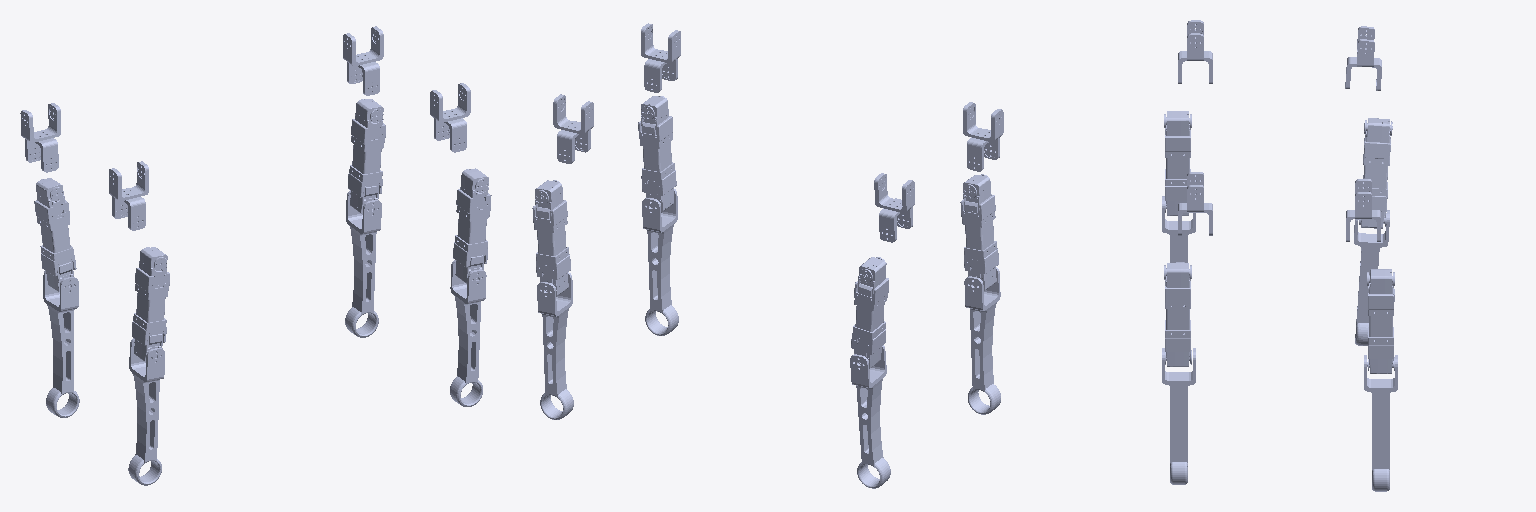
URDF robot description (cerbrus_urdf):
<?xml version="1.0" encoding="utf-8"?>
<!-- This URDF was automatically created by SolidWorks to URDF Exporter! Originally created by Stephen Brawner (brawner@gmail.com) 
     Commit Version: 1.6.0-4-g7f85cfe  Build Version: 1.6.7995.38578
     For more information, please see http://wiki.ros.org/sw_urdf_exporter -->
<robot
  name="cerbrus_urdf">
    <mujoco>
        <compiler 
        meshdir="/home/mandred/cerbrus_ws/src/cerbrus_description/meshes/" 
        balanceinertia="true" 
        discardvisual="false" />
  </mujoco>
  <link
    name="base_link">
    <inertial>
      <origin
        xyz="0.2637 0.13624 -0.0045945"
        rpy="0 0 0" />
      <mass
        value="1.2203" />
      <inertia
        ixx="0.0021324"
        ixy="0"
        ixz="0"
        iyy="0.0090463"
        iyz="0"
        izz="0.01083" />
    </inertial>
    <visual>
      <origin
        xyz="0 0 0"
        rpy="0 0 0" />
      <geometry>
        <mesh
          filename="base_link.STL" />
      </geometry>
      <material
        name="">
        <color
          rgba="0.79216 0.81961 0.93333 1" />
      </material>
    </visual>
    <collision>
      <origin
        xyz="0 0 0"
        rpy="0 0 0" />
      <geometry>
        <mesh
          filename="base_link.STL" />
      </geometry>
    </collision>
  </link>

  <link
    name="front_left_b_link">
    <inertial>
      <origin
        xyz="0.023501 -0.00012609 -0.029"
        rpy="0 0 0" />
      <mass
        value="0.025843" />
      <inertia
        ixx="9.0149E-06"
        ixy="0"
        ixz="0"
        iyy="9.0149E-06"
        iyz="0"
        izz="1.0208E-05" />
    </inertial>
    <visual>
      <origin
        xyz="0 0 0"
        rpy="0 0 0" />
      <geometry>
        <mesh
          filename="front_left_b_link.STL" />
      </geometry>
      <material
        name="">
        <color
          rgba="0.79216 0.81961 0.93333 1" />
      </material>
    </visual>
    <collision>
      <origin
        xyz="0 0 0"
        rpy="0 0 0" />
      <geometry>
        <mesh
          filename="front_left_b_link.STL" />
      </geometry>
    </collision>
  </link>
  <joint
    name="front_left_b_joint"
    type="revolute">
    <origin
      xyz="0.48015 0.27243 -0.010182"
      rpy="0 0 0" />
    <parent
      link="base_link" />
    <child
      link="front_left_b_link" />
    <axis
      xyz="1 0 0" />
    <limit
      lower="-1.57"
      upper="1.57"
      effort="100"
      velocity="4" />
  </joint>
  <link
    name="front_left_ul_link">
    <inertial>
      <origin
        xyz="0.00012183 -0.018126 -0.065002"
        rpy="0 0 0" />
      <mass
        value="0.1273" />
      <inertia
        ixx="2.7354E-05"
        ixy="0"
        ixz="0"
        iyy="2.9279E-05"
        iyz="0"
        izz="1.5317E-05" />
    </inertial>
    <visual>
      <origin
        xyz="0 0 0"
        rpy="0 0 0" />
      <geometry>
        <mesh
          filename="front_left_ul_link.STL" />
      </geometry>
      <material
        name="">
        <color
          rgba="0.79216 0.81961 0.93333 1" />
      </material>
    </visual>
    <collision>
      <origin
        xyz="0 0 0"
        rpy="0 0 0" />
      <geometry>
        <mesh
          filename="front_left_ul_link.STL" />
      </geometry>
    </collision>
  </link>
  <joint
    name="front_left_ul_joint"
    type="revolute">
    <origin
      xyz="0.023375 0.018375 -0.058"
      rpy="0 0.065641 0" />
    <parent
      link="front_left_b_link" />
    <child
      link="front_left_ul_link" />
    <axis
      xyz="0 1 0" />
    <limit
      lower="-1.57"
      upper="1.57"
      effort="100"
      velocity="4" />
  </joint>
  <link
    name="front_left_ll_link">
    <inertial>
      <origin
        xyz="0.0022913 -0.023105 -0.088631"
        rpy="0 0 0" />
      <mass
        value="0.064388" />
      <inertia
        ixx="0.00020194"
        ixy="0"
        ixz="0"
        iyy="0.00019957"
        iyz="0"
        izz="1.1542E-05" />
    </inertial>
    <visual>
      <origin
        xyz="0 0 0"
        rpy="0 0 0" />
      <geometry>
        <mesh
          filename="front_left_ll_link.STL" />
      </geometry>
      <material
        name="">
        <color
          rgba="0.79216 0.81961 0.93333 1" />
      </material>
    </visual>
    <collision>
      <origin
        xyz="0 0 0"
        rpy="0 0 0" />
      <geometry>
        <mesh
          filename="front_left_ll_link.STL" />
      </geometry>
    </collision>
  </link>
  <joint
    name="front_left_ll_joint"
    type="revolute">
    <origin
      xyz="0 0.004658 -0.13"
      rpy="0 -0.028284 0" />
    <parent
      link="front_left_ul_link" />
    <child
      link="front_left_ll_link" />
    <axis
      xyz="0 1 0" />
    <limit
      lower="-1.57"
      upper="1.57"
      effort="100"
      velocity="4" />
  </joint>
  <link
    name="front_right_b_link">
    <inertial>
      <origin
        xyz="0.023501 -0.00012609 -0.029"
        rpy="0 0 0" />
      <mass
        value="0.025843" />
      <inertia
        ixx="9.0149E-06"
        ixy="0"
        ixz="0"
        iyy="9.0149E-06"
        iyz="0"
        izz="1.0208E-05" />
    </inertial>
    <visual>
      <origin
        xyz="0 0 0"
        rpy="0 0 0" />
      <geometry>
        <mesh
          filename="front_right_b_link.STL" />
      </geometry>
      <material
        name="">
        <color
          rgba="0.79216 0.81961 0.93333 1" />
      </material>
    </visual>
    <collision>
      <origin
        xyz="0 0 0"
        rpy="0 0 0" />
      <geometry>
        <mesh
          filename="front_right_b_link.STL" />
      </geometry>
    </collision>
  </link>
  <joint
    name="front_right_b_joint"
    type="revolute">
    <origin
      xyz="0.48015 0 0"
      rpy="0 0 0" />
    <parent
      link="base_link" />
    <child
      link="front_right_b_link" />
    <axis
      xyz="1 0 0" />
    <limit
      lower="-1.57"
      upper="1.57"
      effort="100"
      velocity="4" />
  </joint>
  <link
    name="front_right_ul_link">
    <inertial>
      <origin
        xyz="0.00012183 0.019124 -0.065002"
        rpy="0 0 0" />
      <mass
        value="0.1273" />
      <inertia
        ixx="2.7354E-05"
        ixy="0"
        ixz="0"
        iyy="2.9279E-05"
        iyz="0"
        izz="1.5317E-05" />
    </inertial>
    <visual>
      <origin
        xyz="0 0 0"
        rpy="0 0 0" />
      <geometry>
        <mesh
          filename="front_right_ul_link.STL" />
      </geometry>
      <material
        name="">
        <color
          rgba="0.79216 0.81961 0.93333 1" />
      </material>
    </visual>
    <collision>
      <origin
        xyz="0 0 0"
        rpy="0 0 0" />
      <geometry>
        <mesh
          filename="front_right_ul_link.STL" />
      </geometry>
    </collision>
  </link>
  <joint
    name="front_right_ul_joint"
    type="revolute">
    <origin
      xyz="0.023375 -0.018875 -0.058"
      rpy="0 0.065641 0" />
    <parent
      link="front_right_b_link" />
    <child
      link="front_right_ul_link" />
    <axis
      xyz="0 1 0" />
    <limit
      lower="-1.57"
      upper="1.57"
      effort="100"
      velocity="4" />
  </joint>
  <link
    name="front_right_ll_link">
    <inertial>
      <origin
        xyz="0.0022913 0.023145 -0.088631"
        rpy="0 0 0" />
      <mass
        value="0.064388" />
      <inertia
        ixx="0.00020194"
        ixy="0"
        ixz="0"
        iyy="0.00019957"
        iyz="0"
        izz="1.1542E-05" />
    </inertial>
    <visual>
      <origin
        xyz="0 0 0"
        rpy="0 0 0" />
      <geometry>
        <mesh
          filename="front_right_ll_link.STL" />
      </geometry>
      <material
        name="">
        <color
          rgba="0.79216 0.81961 0.93333 1" />
      </material>
    </visual>
    <collision>
      <origin
        xyz="0 0 0"
        rpy="0 0 0" />
      <geometry>
        <mesh
          filename="front_right_ll_link.STL" />
      </geometry>
    </collision>
  </link>
  <joint
    name="front_right_ll_joint"
    type="revolute">
    <origin
      xyz="0 -0.002742 -0.13"
      rpy="0 -0.028284 0" />
    <parent
      link="front_right_ul_link" />
    <child
      link="front_right_ll_link" />
    <axis
      xyz="0 1 0" />
    <limit
      lower="-1.57"
      upper="1.57"
      effort="100"
      velocity="4" />
  </joint>
  <link
    name="back_left_b_link">
    <inertial>
      <origin
        xyz="0.023501 -0.00012609 -0.029"
        rpy="0 0 0" />
      <mass
        value="0.025843" />
      <inertia
        ixx="9.0149E-06"
        ixy="0"
        ixz="0"
        iyy="9.0149E-06"
        iyz="0"
        izz="1.0208E-05" />
    </inertial>
    <visual>
      <origin
        xyz="0 0 0"
        rpy="0 0 0" />
      <geometry>
        <mesh
          filename="back_left_b_link.STL" />
      </geometry>
      <material
        name="">
        <color
          rgba="0.79216 0.81961 0.93333 1" />
      </material>
    </visual>
    <collision>
      <origin
        xyz="0 0 0"
        rpy="0 0 0" />
      <geometry>
        <mesh
          filename="back_left_b_link.STL" />
      </geometry>
    </collision>
  </link>
  <joint
    name="back_left_b_joint"
    type="revolute">
    <origin
      xyz="0 0.27243 -0.010182"
      rpy="-0.060911 0 0" />
    <parent
      link="base_link" />
    <child
      link="back_left_b_link" />
    <axis
      xyz="1 0 0" />
    <limit
      lower="-1.57"
      upper="1.57"
      effort="100"
      velocity="4" />
  </joint>
  <link
    name="back_left_ul_link">
    <inertial>
      <origin
        xyz="0.00012183 -0.018126 -0.065002"
        rpy="0 0 0" />
      <mass
        value="0.1273" />
      <inertia
        ixx="2.7354E-05"
        ixy="0"
        ixz="0"
        iyy="2.9279E-05"
        iyz="0"
        izz="1.5317E-05" />
    </inertial>
    <visual>
      <origin
        xyz="0 0 0"
        rpy="0 0 0" />
      <geometry>
        <mesh
          filename="back_left_ul_link.STL" />
      </geometry>
      <material
        name="">
        <color
          rgba="0.79216 0.81961 0.93333 1" />
      </material>
    </visual>
    <collision>
      <origin
        xyz="0 0 0"
        rpy="0 0 0" />
      <geometry>
        <mesh
          filename="back_left_ul_link.STL" />
      </geometry>
    </collision>
  </link>
  <joint
    name="back_left_ul_joint"
    type="revolute">
    <origin
      xyz="0.023375 0.018375 -0.058"
      rpy="0 -0.092957 0" />
    <parent
      link="back_left_b_link" />
    <child
      link="back_left_ul_link" />
    <axis
      xyz="0 1 0" />
    <limit
      lower="-1.57"
      upper="1.57"
      effort="100"
      velocity="4" />
  </joint>
  <link
    name="back_left_ll_link">
    <inertial>
      <origin
        xyz="0.0022913 -0.023105 -0.088631"
        rpy="0 0 0" />
      <mass
        value="0.064388" />
      <inertia
        ixx="0.00020194"
        ixy="0"
        ixz="0"
        iyy="0.00019957"
        iyz="0"
        izz="1.1542E-05" />
    </inertial>
    <visual>
      <origin
        xyz="0 0 0"
        rpy="0 0 0" />
      <geometry>
        <mesh
          filename="back_left_ll_link.STL" />
      </geometry>
      <material
        name="">
        <color
          rgba="0.79216 0.81961 0.93333 1" />
      </material>
    </visual>
    <collision>
      <origin
        xyz="0 0 0"
        rpy="0 0 0" />
      <geometry>
        <mesh
          filename="back_left_ll_link.STL" />
      </geometry>
    </collision>
  </link>
  <joint
    name="back_left_ll_joint"
    type="revolute">
    <origin
      xyz="0 0.004658 -0.13"
      rpy="0 0.13031 0" />
    <parent
      link="back_left_ul_link" />
    <child
      link="back_left_ll_link" />
    <axis
      xyz="0 1 0" />
    <limit
      lower="-1.57"
      upper="1.57"
      effort="100"
      velocity="4" />
  </joint>
  <link
    name="back_right_b_link">
    <inertial>
      <origin
        xyz="0.023501 -0.00012609 -0.029"
        rpy="0 0 0" />
      <mass
        value="0.025843" />
      <inertia
        ixx="9.0149E-06"
        ixy="0"
        ixz="0"
        iyy="9.0149E-06"
        iyz="0"
        izz="1.0208E-05" />
    </inertial>
    <visual>
      <origin
        xyz="0 0 0"
        rpy="0 0 0" />
      <geometry>
        <mesh
          filename="back_right_b_link.STL" />
      </geometry>
      <material
        name="">
        <color
          rgba="0.79216 0.81961 0.93333 1" />
      </material>
    </visual>
    <collision>
      <origin
        xyz="0 0 0"
        rpy="0 0 0" />
      <geometry>
        <mesh
          filename="back_right_b_link.STL" />
      </geometry>
    </collision>
  </link>
  <joint
    name="back_right_b_joint"
    type="revolute">
    <origin
      xyz="0 0 0"
      rpy="0 0 0" />
    <parent
      link="base_link" />
    <child
      link="back_right_b_link" />
    <axis
      xyz="1 0 0" />
    <limit
      lower="-1.57"
      upper="1.57"
      effort="100"
      velocity="4" />
  </joint>
  <link
    name="back_right_ul_link">
    <inertial>
      <origin
        xyz="0.00012183 0.019124 -0.065002"
        rpy="0 0 0" />
      <mass
        value="0.1273" />
      <inertia
        ixx="2.7354E-05"
        ixy="0"
        ixz="0"
        iyy="2.9279E-05"
        iyz="0"
        izz="1.5317E-05" />
    </inertial>
    <visual>
      <origin
        xyz="0 0 0"
        rpy="0 0 0" />
      <geometry>
        <mesh
          filename="back_right_ul_link.STL" />
      </geometry>
      <material
        name="">
        <color
          rgba="0.79216 0.81961 0.93333 1" />
      </material>
    </visual>
    <collision>
      <origin
        xyz="0 0 0"
        rpy="0 0 0" />
      <geometry>
        <mesh
          filename="back_right_ul_link.STL" />
      </geometry>
    </collision>
  </link>
  <joint
    name="back_right_ul_joint"
    type="revolute">
    <origin
      xyz="0.023375 -0.018875 -0.058"
      rpy="0 0.065641 0" />
    <parent
      link="back_right_b_link" />
    <child
      link="back_right_ul_link" />
    <axis
      xyz="0 1 0" />
    <limit
      lower="-1.57"
      upper="1.57"
      effort="100"
      velocity="4" />
  </joint>
  <link
    name="back_right_ll_link">
    <inertial>
      <origin
        xyz="0.0022913 0.023145 -0.088631"
        rpy="0 0 0" />
      <mass
        value="0.064388" />
      <inertia
        ixx="0.00020194"
        ixy="0"
        ixz="0"
        iyy="0.00019957"
        iyz="0"
        izz="1.1542E-05" />
    </inertial>
    <visual>
      <origin
        xyz="0 0 0"
        rpy="0 0 0" />
      <geometry>
        <mesh
          filename="back_right_ll_link.STL" />
      </geometry>
      <material
        name="">
        <color
          rgba="0.79216 0.81961 0.93333 1" />
      </material>
    </visual>
    <collision>
      <origin
        xyz="0 0 0"
        rpy="0 0 0" />
      <geometry>
        <mesh
          filename="back_right_ll_link.STL" />
      </geometry>
    </collision>
  </link>
  <joint
    name="back_right_ll_joint"
    type="revolute">
    <origin
      xyz="0 -0.002742 -0.13"
      rpy="0 -0.028284 0" />
    <parent
      link="back_right_ul_link" />
    <child
      link="back_right_ll_link" />
    <axis
      xyz="0 1 0" />
    <limit
      lower="-1.57"
      upper="1.57"
      effort="100"
      velocity="4" />
  </joint>
</robot>

--- What the picture shows (computed from the rendered views, not written in the file) ---
Views: 3 orthographic renders of the robot side by side, from view 1: azimuth 30°, elevation 25°; view 2: azimuth 150°, elevation 25°; view 3: azimuth 270°, elevation 25°.
Model cerbrus_urdf with 13 links and 12 joints (12 revolute), rooted at base_link, posed every joint at zero.
Links seen in each view (by area): view 1: back_left_ll_link, front_right_ll_link, back_right_ll_link, front_left_ll_link, front_left_ul_link, back_right_ul_link, front_right_ul_link, back_left_ul_link, back_left_b_link, back_right_b_link, front_left_b_link, front_right_b_link; view 2: back_right_ll_link, front_left_ll_link, front_right_ll_link, back_left_ll_link, back_right_ul_link, front_right_ul_link, front_left_ul_link, back_left_ul_link, front_left_b_link, back_right_b_link, front_right_b_link, back_left_b_link; view 3: front_left_ul_link, front_right_ul_link, back_right_ul_link, front_right_ll_link, front_left_ll_link, back_left_ul_link, back_left_ll_link, back_left_b_link, front_right_b_link, back_right_b_link, front_left_b_link, back_right_ll_link.
Link boxes in pixels (x1,y1,x2,y2): back_left_ll_link: (43,271,79,417); front_right_ll_link: (450,260,486,406); back_right_ll_link: (128,338,164,485); front_left_ll_link: (345,190,381,337); front_left_ul_link: (348,99,385,214); back_right_ul_link: (132,247,169,362); front_right_ul_link: (453,168,491,283); back_left_ul_link: (34,178,76,291); back_left_b_link: (20,103,60,172); back_right_b_link: (109,161,148,230); front_left_b_link: (343,26,383,95); front_right_b_link: (430,83,470,152); back_right_ll_link: (964,267,1000,414); front_left_ll_link: (537,272,573,419); front_right_ll_link: (642,189,678,335); back_left_ll_link: (850,345,890,488); back_right_ul_link: (960,174,998,290); front_right_ul_link: (638,96,676,212); front_left_ul_link: (532,180,570,296); back_left_ul_link: (851,257,888,368); front_left_b_link: (553,94,593,163); back_right_b_link: (963,102,1003,171); front_right_b_link: (641,23,680,92); back_left_b_link: (874,173,914,242); front_left_ul_link: (1367,269,1394,373); front_right_ul_link: (1164,262,1191,366); back_right_ul_link: (1164,111,1191,215); front_right_ll_link: (1162,348,1195,484); front_left_ll_link: (1364,355,1397,491); back_left_ul_link: (1359,118,1392,228); back_left_ll_link: (1354,210,1389,345); back_left_b_link: (1345,26,1381,90); front_right_b_link: (1178,172,1212,235); back_right_b_link: (1178,20,1212,83); front_left_b_link: (1346,179,1380,241); back_right_ll_link: (1162,196,1195,262).
Size in the robot's own frame: 0.5417 by 0.3171 by 0.4546 metres.
12 mesh visuals loaded from 13 distinct referenced files (12 binary STL); not drawn: 1 (reference not matched to a file when rendering).
